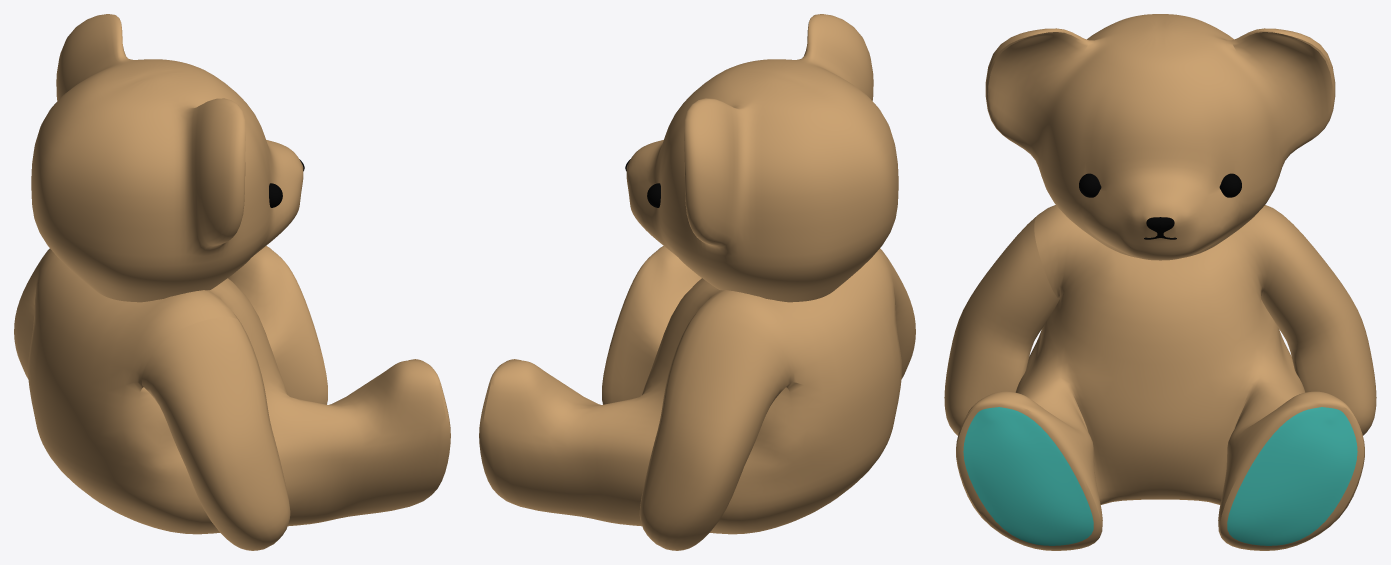
File: Low Poly Bear With Broken Arm.fbx
The picture shows the model from 3 angles, left to right: view 1: azimuth 30°, elevation 25°; view 2: azimuth 150°, elevation 25°; view 3: azimuth 270°, elevation 25°; orthographic projection.
Visible parts, largest first — view 1: Bear Final.015, Bear Final.016; view 2: Bear Final.015, Bear Final.016; view 3: Bear Final.015, Bear Final.016, Sphere.015.
Part boxes in pixels (<box>): Bear Final.015: <box>14,14,450,534</box>; Bear Final.016: <box>141,317,290,550</box>; Bear Final.015: <box>479,14,901,550</box>; Bear Final.016: <box>880,248,915,378</box>; Bear Final.015: <box>956,14,1376,550</box>; Bear Final.016: <box>944,216,1059,435</box>; Sphere.015: <box>1079,173,1241,197</box>.
Size of the model in its own units: 69.56 by 92.56 by 81.9.
